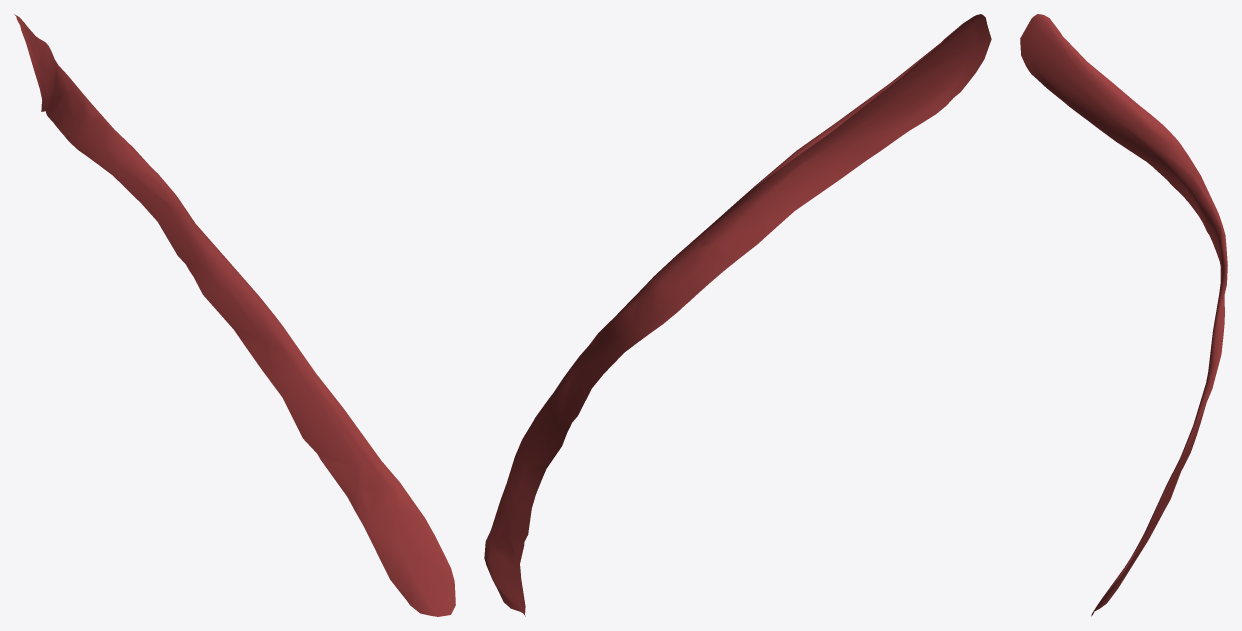
The model's file is diaphragm-o4l.glb.
3 views of the same model, side by side, from view 1: azimuth 30°, elevation 25°; view 2: azimuth 150°, elevation 25°; view 3: azimuth 270°, elevation 25° (orthographic). The views are drawn at different scales.
Visible parts, largest first — view 1: Diaphragm.o4l; view 2: Diaphragm.o4l; view 3: Diaphragm.o4l.
Part boxes in pixels (<box>): Diaphragm.o4l: <box>14,14,455,616</box>; Diaphragm.o4l: <box>484,14,991,616</box>; Diaphragm.o4l: <box>1020,14,1227,616</box>.
Size of the model in its own units: 0.0609 by 0.0887 by 0.0364.
